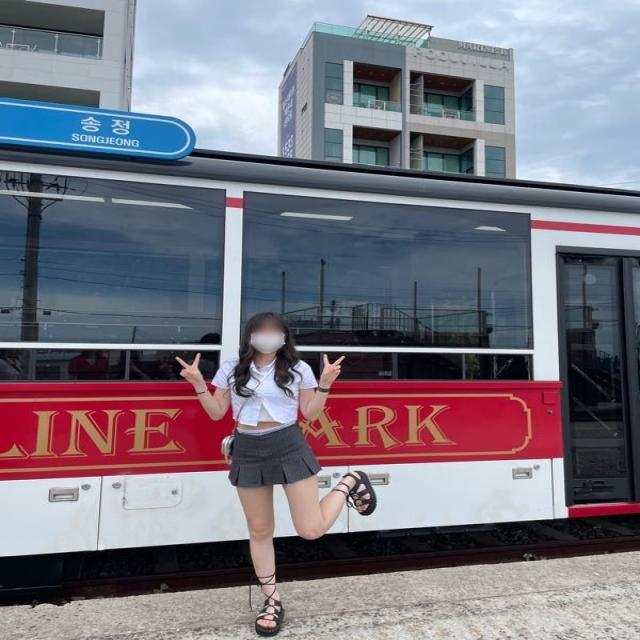shirt: (211, 356, 320, 427)
skirt: (227, 428, 321, 490)
